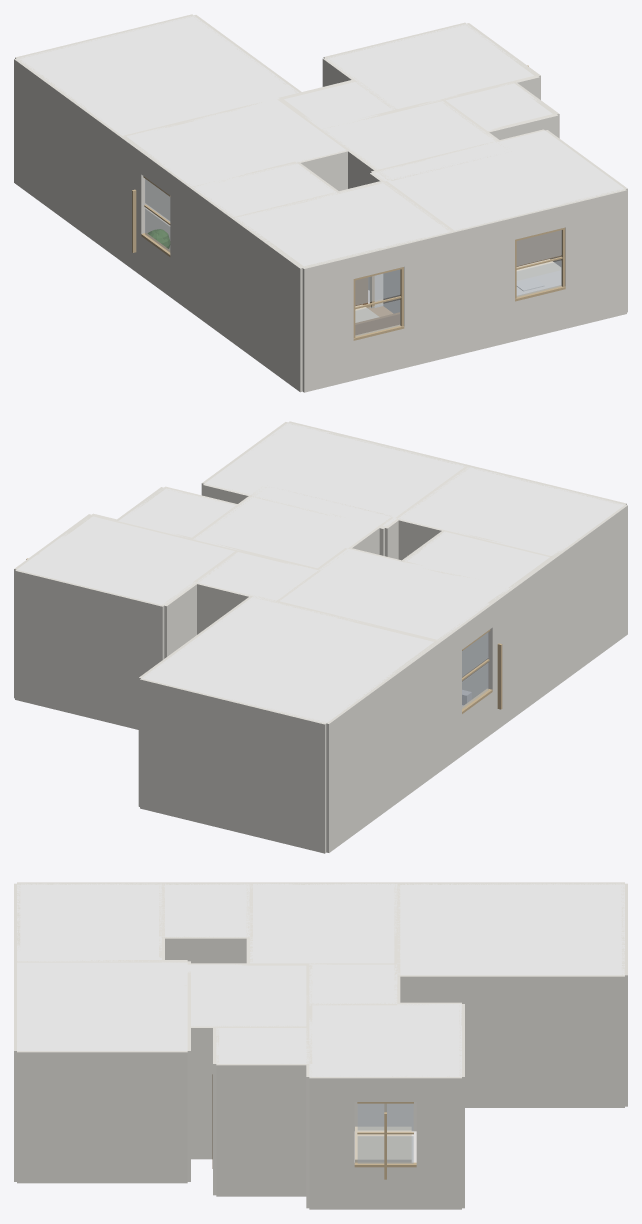
The model's file is guy-blueprint.glb.
The picture shows the model from 3 angles, top to bottom: view 1: azimuth 30°, elevation 25°; view 2: azimuth 150°, elevation 25°; view 3: azimuth 270°, elevation 25°; orthographic projection. The views are drawn at different scales.
Parts seen in each view (by area): view 1: Ceiling_balcony, Wall_balcony_left, Ceiling_kitchen, Ceiling_living_room, Ceiling_bedroom_1, Ceiling_bedroom_2, Wall_bedroom_1_left, Wall_kitchen_front_R, Wall_kitchen_front_L, Ceiling_stairs, Wall_bedroom_1_front_L, Wall_bedroom_1_front_R (+30 smaller); view 2: Wall_balcony_back, Ceiling_balcony, Wall_bedroom_2_back, Wall_balcony_left, Ceiling_kitchen, Ceiling_living_room, Ceiling_bedroom_1, Ceiling_bedroom_2, Wall_bedroom_1_left, Ceiling_stairs, Wall_bathroom_1_left, Ceiling_bathroom_1 (+15 smaller); view 3: Wall_balcony_right, Wall_kitchen_right, Ceiling_balcony, Ceiling_kitchen, Wall_bathroom_2_right, Ceiling_living_room, Ceiling_bedroom_1, Ceiling_bedroom_2, Ceiling_stairs, Wall_bedroom_2_right_R, Wall_bedroom_2_right_L, Ceiling_bathroom_1 (+18 smaller).
Part boxes in pixels (bbox=[...]): Ceiling_balcony: bbox=[17, 15, 298, 136]; Wall_balcony_left: bbox=[14, 58, 122, 260]; Ceiling_kitchen: bbox=[373, 130, 624, 230]; Ceiling_living_room: bbox=[126, 99, 345, 187]; Ceiling_bedroom_1: bbox=[235, 182, 450, 266]; Ceiling_bedroom_2: bbox=[325, 24, 533, 108]; Wall_bedroom_1_left: bbox=[232, 218, 304, 392]; Wall_kitchen_front_R: bbox=[564, 188, 626, 328]; Wall_kitchen_front_L: bbox=[453, 216, 514, 355]; Ceiling_stairs: bbox=[322, 100, 501, 177]; Wall_bedroom_1_front_L: bbox=[302, 255, 353, 392]; Wall_bedroom_1_front_R: bbox=[402, 231, 453, 368]; Wall_balcony_back: bbox=[140, 678, 327, 853]; Ceiling_balcony: bbox=[142, 596, 434, 723]; Wall_bedroom_2_back: bbox=[15, 569, 164, 729]; Wall_balcony_left: bbox=[326, 641, 440, 852]; Ceiling_kitchen: bbox=[204, 422, 465, 526]; Ceiling_living_room: bbox=[279, 549, 510, 639]; Ceiling_bedroom_1: bbox=[398, 467, 624, 555]; Ceiling_bedroom_2: bbox=[17, 516, 234, 604]; Wall_bedroom_1_left: bbox=[552, 504, 627, 686]; Ceiling_stairs: bbox=[193, 486, 390, 568]; Wall_bathroom_1_left: bbox=[508, 556, 556, 717]; Ceiling_bathroom_1: bbox=[404, 531, 549, 587]; Wall_balcony_right: bbox=[397, 975, 624, 1107]; Wall_kitchen_right: bbox=[17, 1051, 187, 1183]; Ceiling_balcony: bbox=[397, 883, 624, 975]; Ceiling_kitchen: bbox=[17, 961, 187, 1050]; Wall_bathroom_2_right: bbox=[216, 1064, 309, 1196]; Ceiling_living_room: bbox=[250, 883, 397, 964]; Ceiling_bedroom_1: bbox=[17, 883, 161, 961]; Ceiling_bedroom_2: bbox=[309, 1004, 461, 1076]; Ceiling_stairs: bbox=[187, 964, 308, 1026]; Wall_bedroom_2_right_R: bbox=[416, 1076, 461, 1209]; Wall_bedroom_2_right_L: bbox=[309, 1077, 354, 1209]; Ceiling_bathroom_1: bbox=[162, 883, 249, 937].
Bounding box in the file's own units: 10.08 × 2.8 × 11.87.
